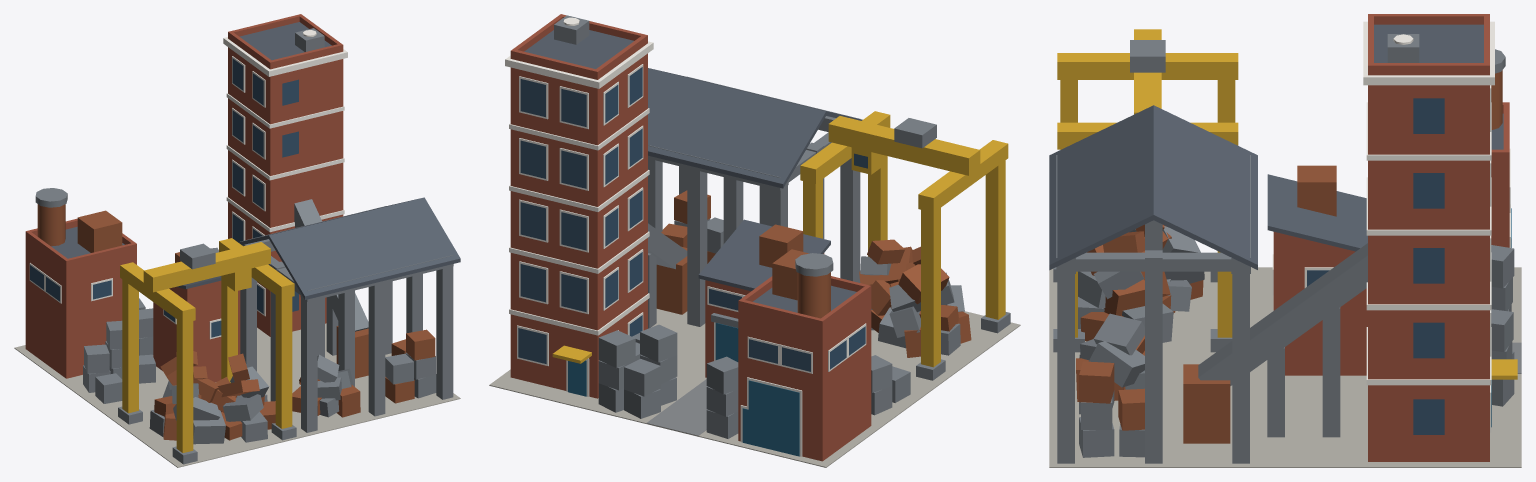
The picture shows the model from 3 angles, left to right: view 1: azimuth 30°, elevation 25°; view 2: azimuth 150°, elevation 25°; view 3: azimuth 270°, elevation 25°; orthographic projection. The views are drawn at different scales.
Parts seen in each view (by area): view 1: sorting_tower, roof (×3), shredder (×3), column (×9), gantry_leg (×4), yard, scrap (×8), bale (×7), gantry_girder, gantry_runway (×2), feed_hopper (×2), parapet (×3) (+10 smaller); view 2: sorting_tower, roof (×4), shredder (×2), bale (×12), yard, gantry_leg (×4), column (×5), window_glass (×9), garage_door (×2), feed_hopper (×3), gantry_girder, parapet (×5) (+13 smaller); view 3: sorting_tower, roof (×3), yard, column (×4), shredder (×3), scrap (×10), bale (×9), conveyor, window_glass (×5), gantry_runway (×2), feed_hopper (×2), string_course (×4) (+10 smaller).
Boxes of the visible parts, x1=… form: sorting_tower: x1=228, y1=47, x2=343, y2=336; roof (×3): x1=51, y1=22, x2=460, y2=299; shredder (×3): x1=25, y1=239, x2=240, y2=382; column (×9): x1=240, y1=242, x2=453, y2=432; gantry_leg (×4): x1=122, y1=274, x2=292, y2=452; yard: x1=14, y1=323, x2=460, y2=467; scrap (×8): x1=173, y1=354, x2=360, y2=444; bale (×7): x1=84, y1=320, x2=435, y2=403; gantry_girder: x1=143, y1=242, x2=270, y2=292; gantry_runway (×2): x1=120, y1=238, x2=294, y2=323; feed_hopper (×2): x1=77, y1=210, x2=368, y2=378; parapet (×3): x1=64, y1=14, x2=343, y2=268; sorting_tower: x1=510, y1=53, x2=647, y2=398; roof (×4): x1=524, y1=30, x2=862, y2=312; shredder (×2): x1=705, y1=280, x2=871, y2=461; bale (×12): x1=598, y1=217, x2=910, y2=438; yard: x1=489, y1=309, x2=1020, y2=467; gantry_leg (×4): x1=803, y1=154, x2=1005, y2=367; column (×5): x1=648, y1=158, x2=860, y2=326; window_glass (×9): x1=518, y1=79, x2=586, y2=363; garage_door (×2): x1=715, y1=323, x2=799, y2=456; feed_hopper (×3): x1=656, y1=224, x2=808, y2=314; gantry_girder: x1=828, y1=116, x2=980, y2=175; parapet (×5): x1=510, y1=14, x2=868, y2=329; sorting_tower: x1=1368, y1=85, x2=1489, y2=461; roof (×3): x1=1049, y1=24, x2=1483, y2=270; yard: x1=1049, y1=267, x2=1521, y2=467; column (×4): x1=1057, y1=220, x2=1249, y2=463; shredder (×3): x1=1273, y1=163, x2=1509, y2=375; scrap (×10): x1=1078, y1=226, x2=1199, y2=387; bale (×9): x1=1079, y1=245, x2=1514, y2=457; conveyor: x1=1198, y1=243, x2=1367, y2=385; window_glass (×5): x1=1413, y1=98, x2=1444, y2=434; gantry_runway (×2): x1=1057, y1=53, x2=1238, y2=149; feed_hopper (×2): x1=1183, y1=165, x2=1336, y2=443; string_course (×4): x1=1366, y1=102, x2=1491, y2=385.
Size of the model in its own units: 24 by 22.97 by 24.
